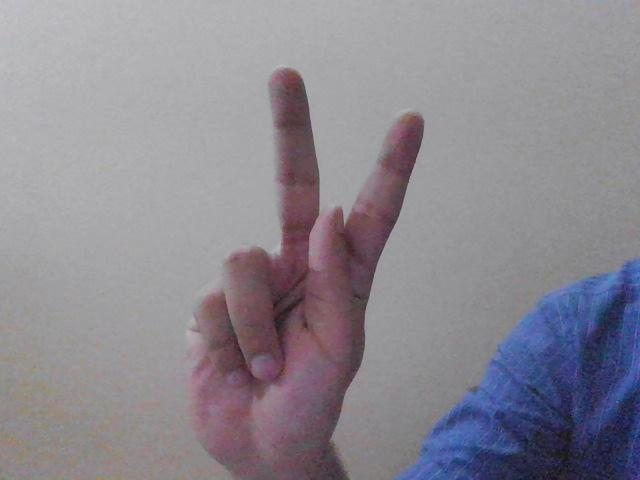K: (174, 71, 427, 468)
